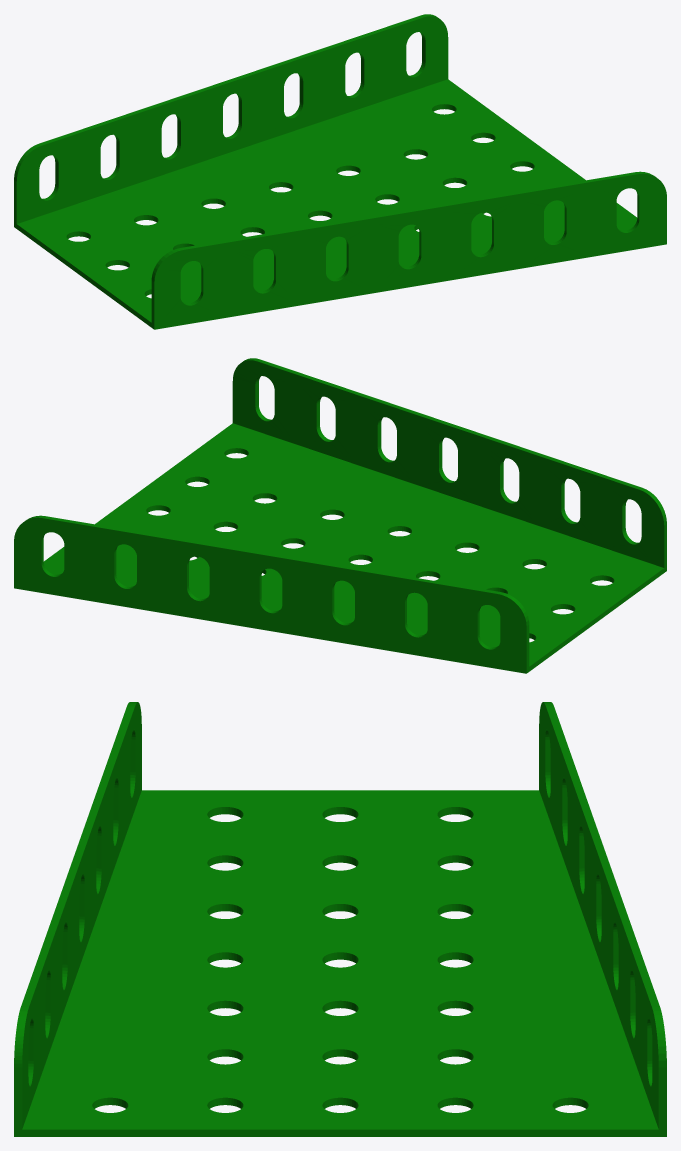
File: Thang_XanhLa.glb
The picture shows the model from 3 angles, top to bottom: view 1: azimuth 30°, elevation 25°; view 2: azimuth 150°, elevation 25°; view 3: azimuth 270°, elevation 25°; orthographic projection. The views are drawn at different scales.
Visible parts, largest first — view 1: defaultobject; view 2: defaultobject; view 3: defaultobject.
Part boxes in pixels (left/top/right/bottom): defaultobject: left=14, top=14, right=666, bottom=329; defaultobject: left=14, top=358, right=666, bottom=673; defaultobject: left=14, top=702, right=666, bottom=1136.
Size of the model in its own units: 221 by 33.62 by 180.
